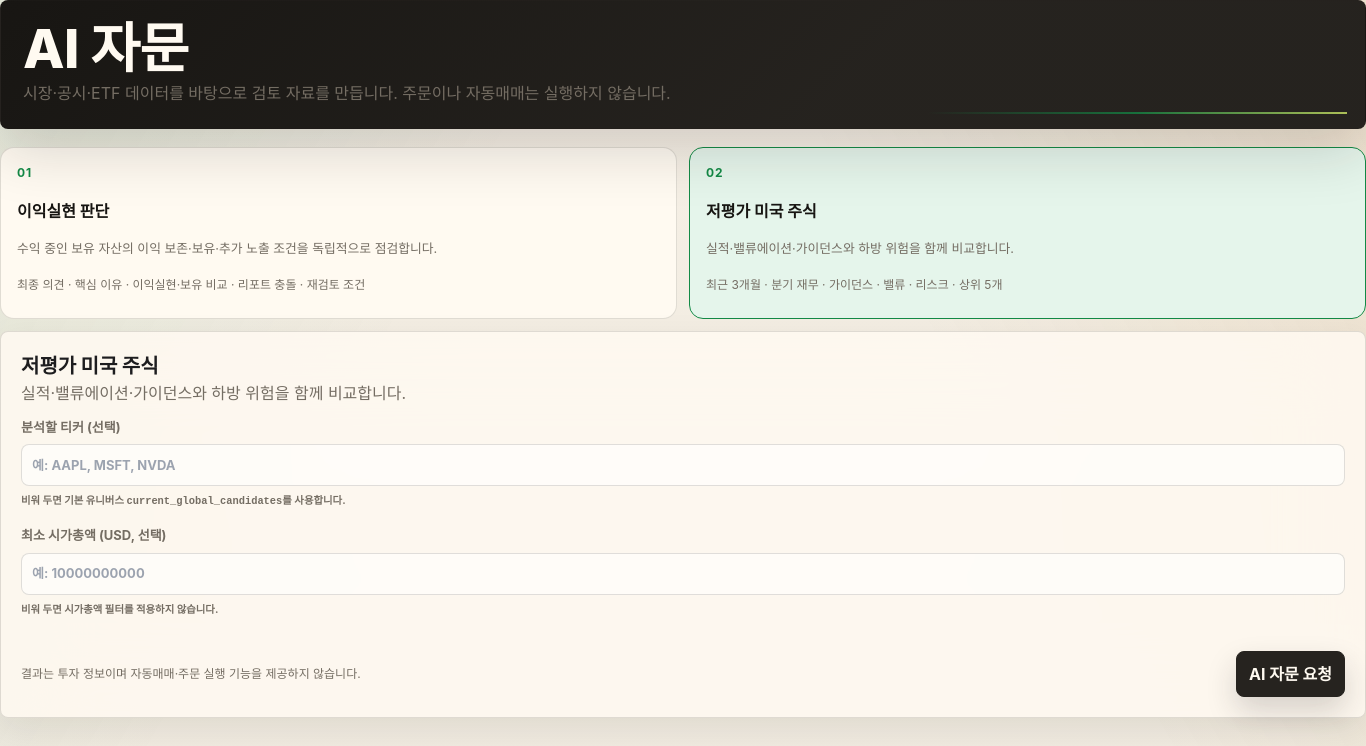
Scenario: Advisory page › maps failed job error code stale_active_job to Korean guidance
This screenshot has width=1366, height=746.
expect the button "AI 자문 요청" is enabled: met, box [1236,651,1345,697]
In the field with placeholder "예: AAPL, MSFT, NVDA": (683, 465) [21,444,1345,486], type "aapl"
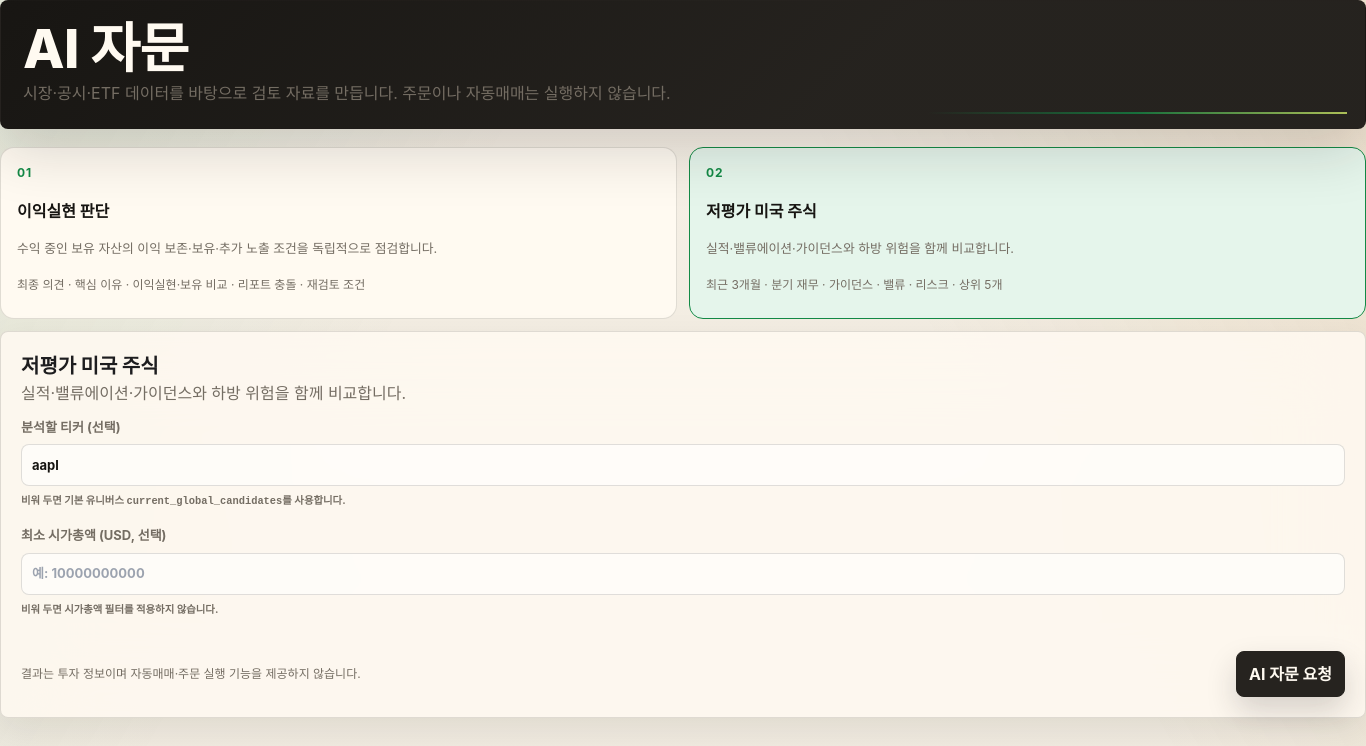
Click the button "AI 자문 요청": click(1291, 674) [1236,651,1345,697]
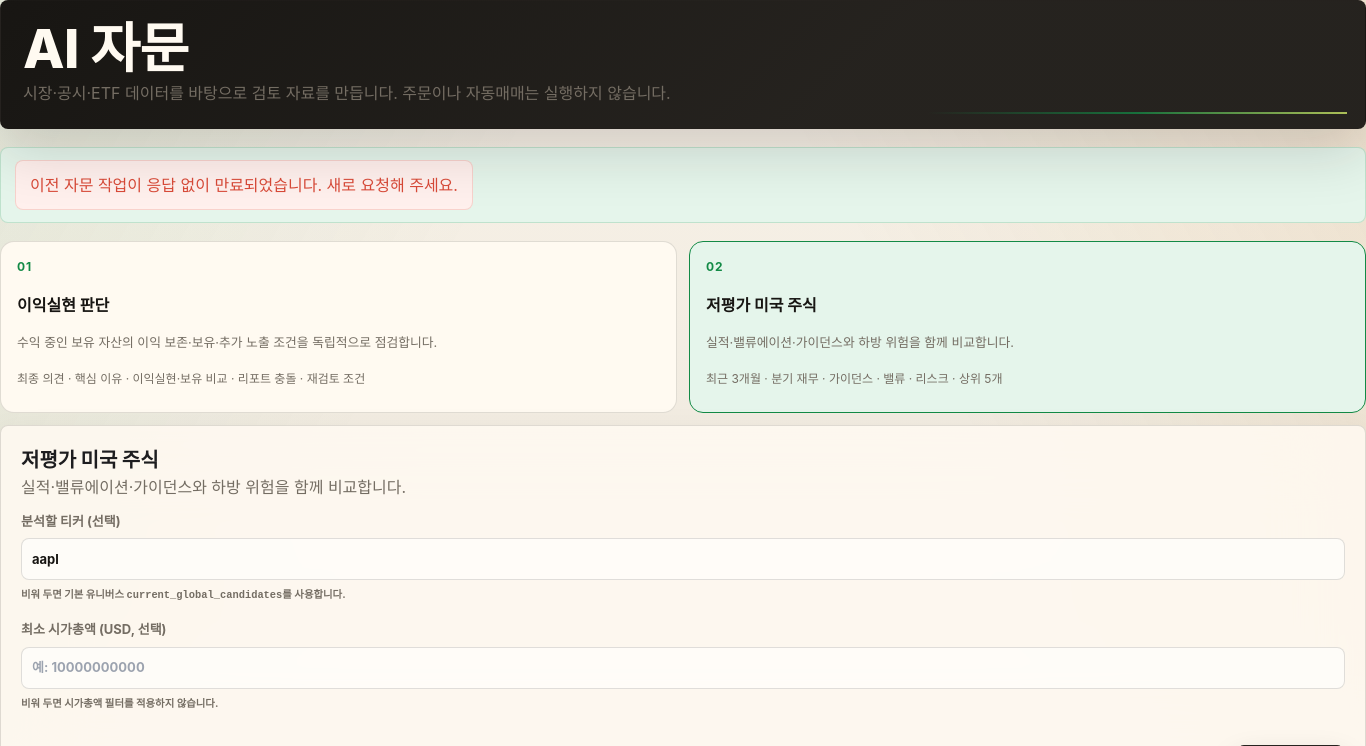
expect the text "이전 자문 작업이 응답 없이 만료되었습니다. 새로 요청해 주세요." is shown: met, box [15,160,473,210]
